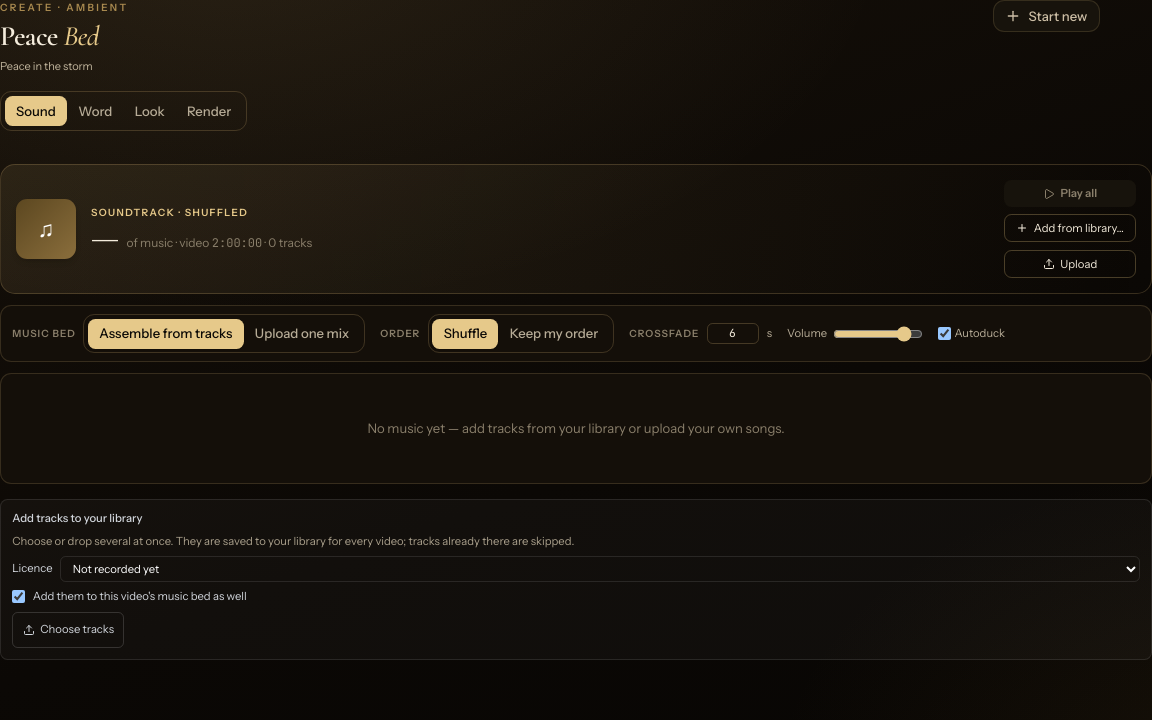
it: AmbientPage › renders all four steps for an active project
Expected: the text "Music bed" is shown, [12,326,76,341]
Click the button "Word" at x=95, y=111, box [67,96,124,126]
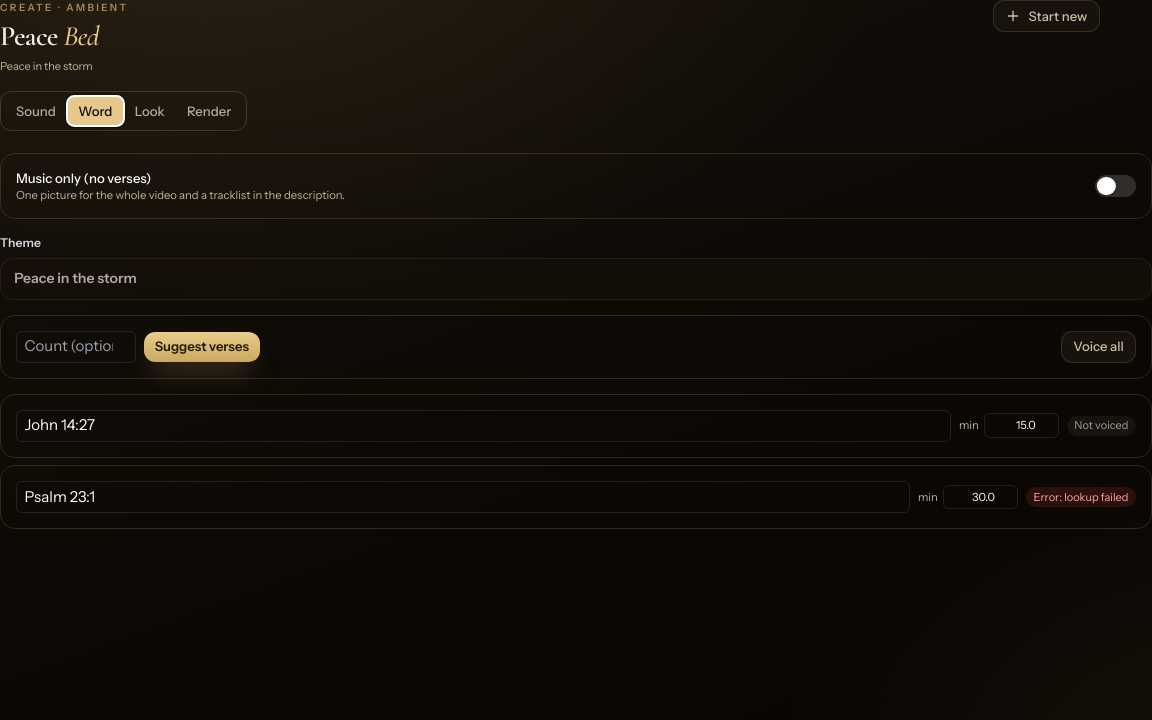
Now the button "Suggest verses" is shown, box [144,332,260,362]
Click the button "Look" at x=150, y=111, box [124,96,176,126]
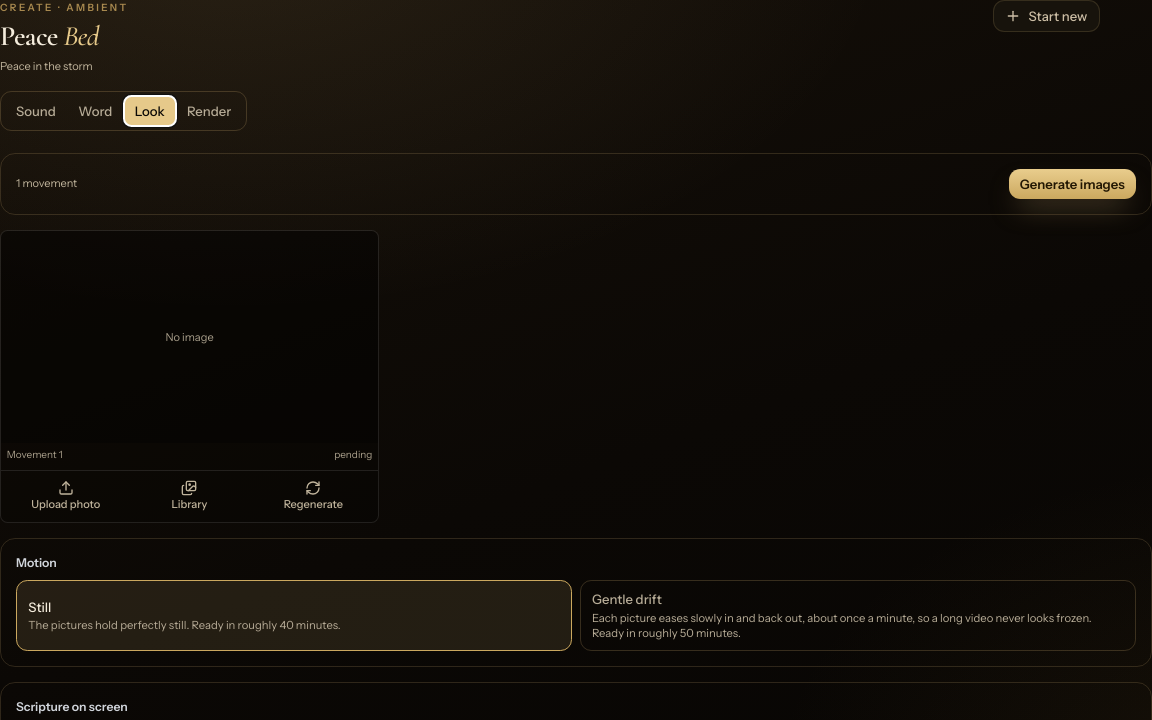
Now the button "Generate images" is shown, box [1008,169,1136,199]
Click the button "Render" at x=209, y=111, box [176,96,242,126]
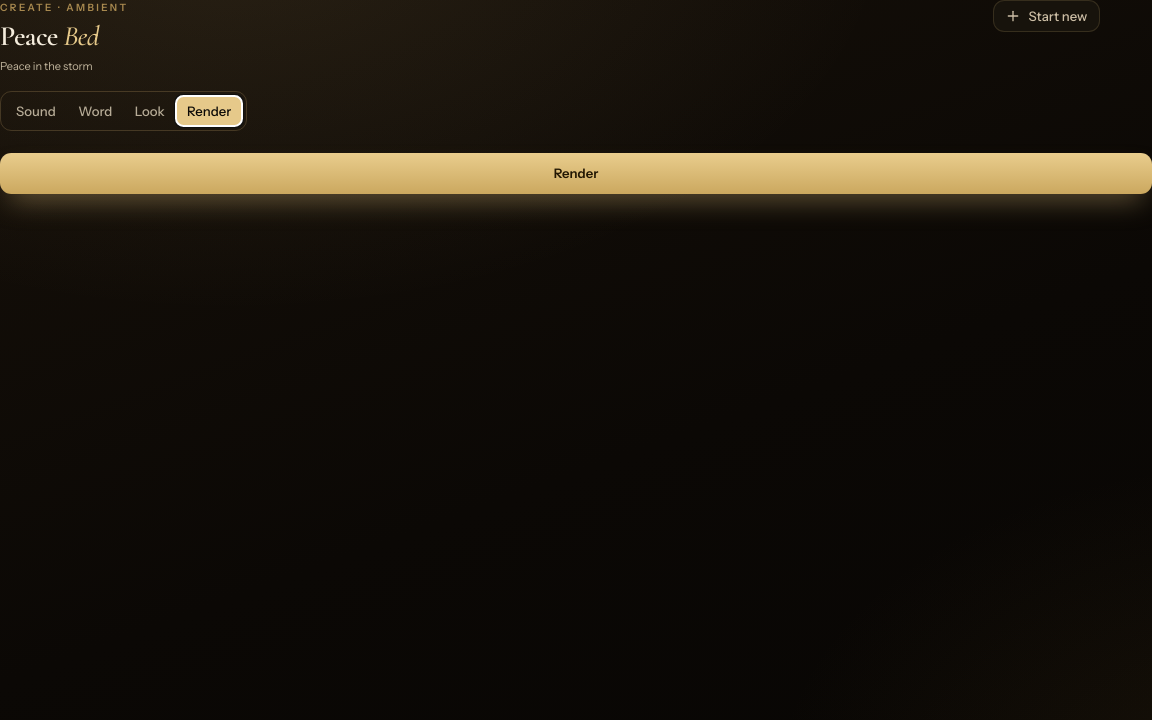
Now the number of buttons "Render" is 2, box [176,96,242,126]; [0,153,1151,194]
